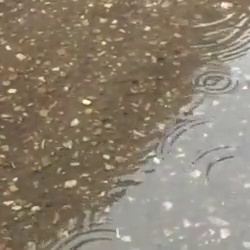drop: (191, 147, 240, 186), (52, 228, 128, 250), (195, 73, 238, 94)
